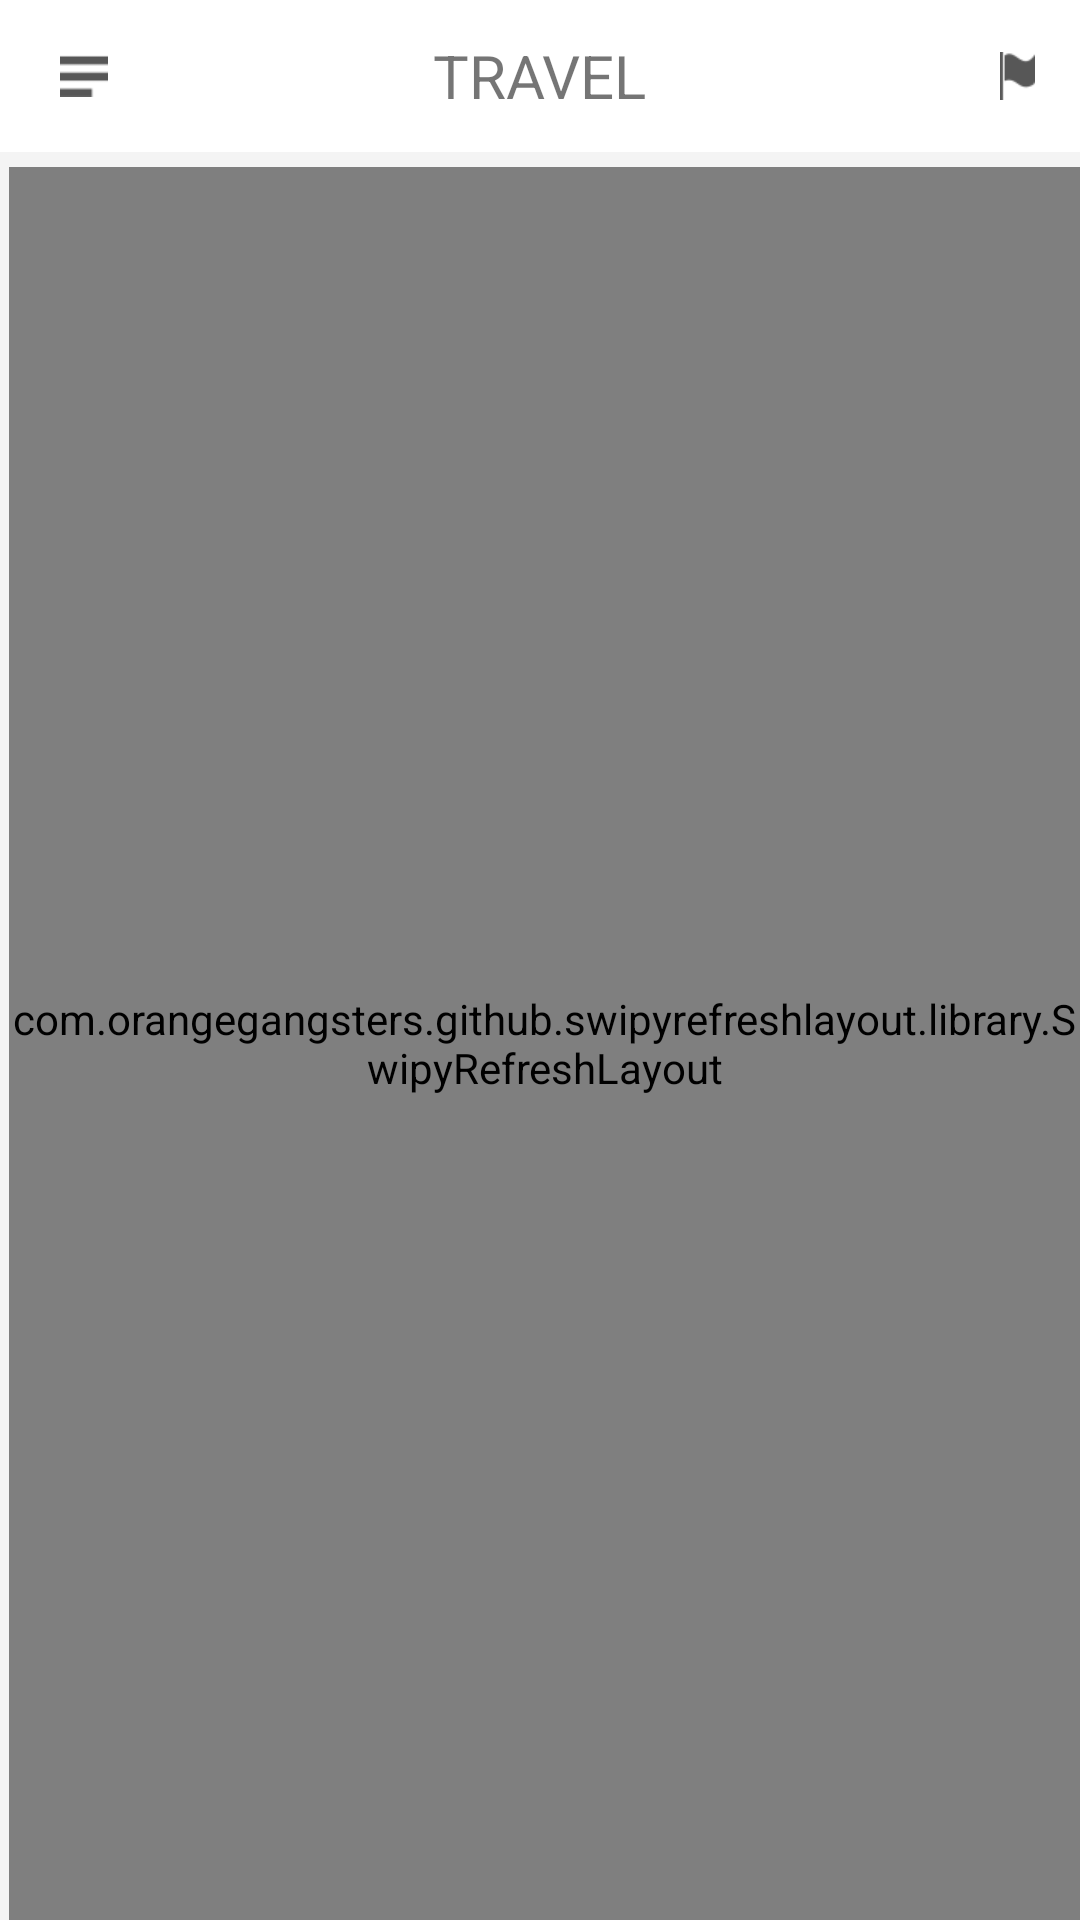

Icon bounding boxes for this 1080px×1920px phone screenshot, format (x1=x1, y1=y1, x2=x2, y2=y2):
flag: (x1=1000, y1=52, x2=1035, y2=100)
menu: (x1=60, y1=56, x2=108, y2=97)
